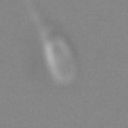normal: (24, 1, 50, 38)
